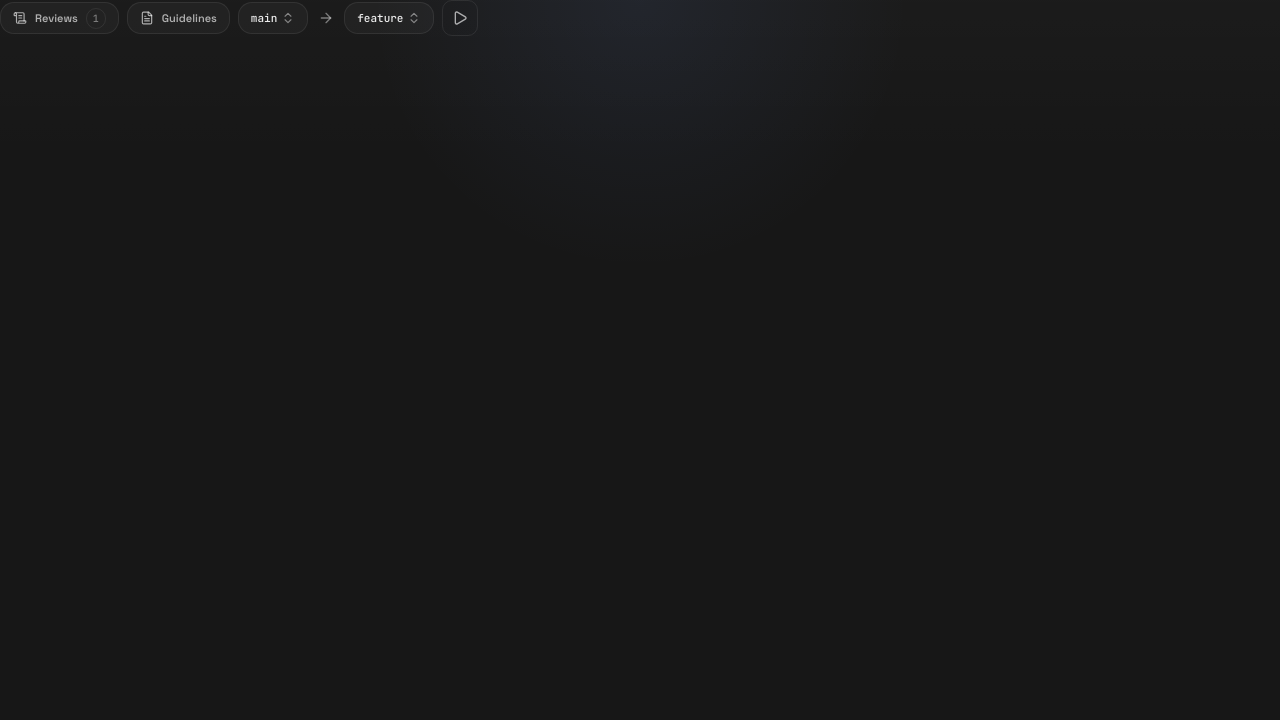
Test: ReviewTitleBarTrailing › opens previous reviews overlay from the titlebar button
This screenshot has width=1280, height=720.
Click the button "Reviews 1" at point(59, 18), box x1=0 y1=2 x2=119 y2=34
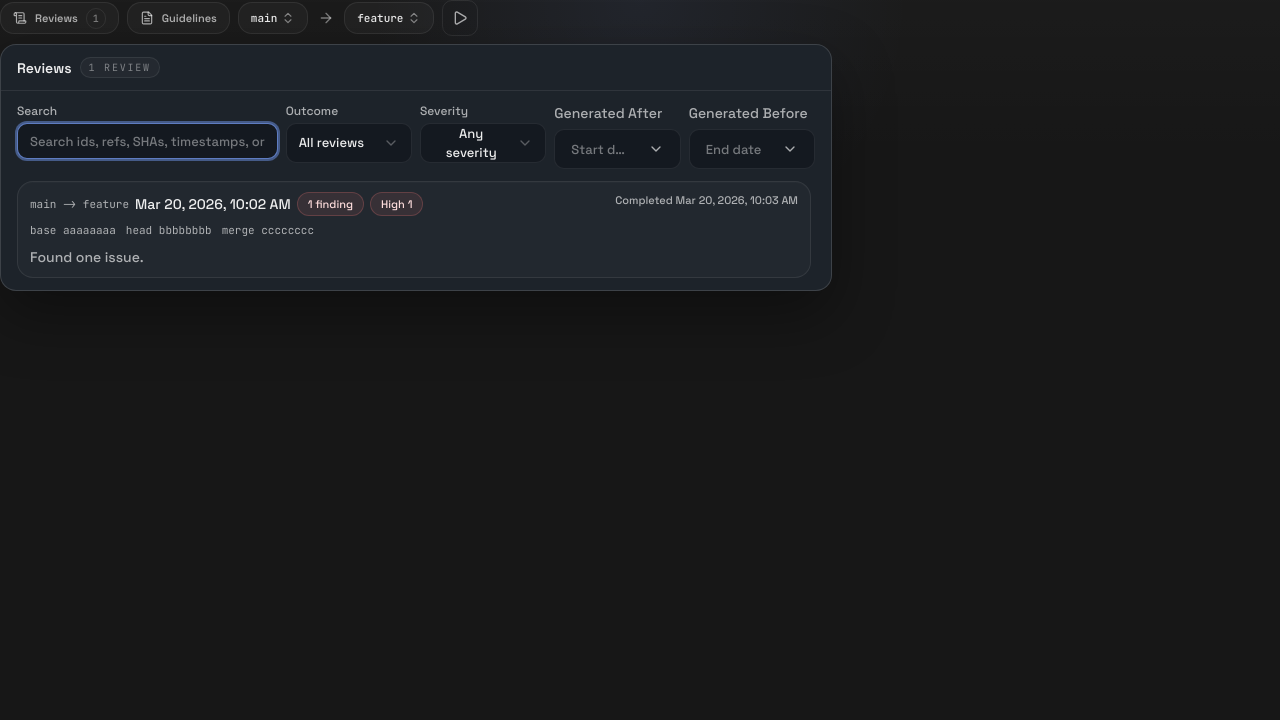
Expected: the field with placeholder "Search ids, refs, SHAs, timestamps, or metadata" is shown, x1=17 y1=123 x2=278 y2=159
Expected: the text "Found one issue." is shown, x1=30 y1=248 x2=144 y2=266
